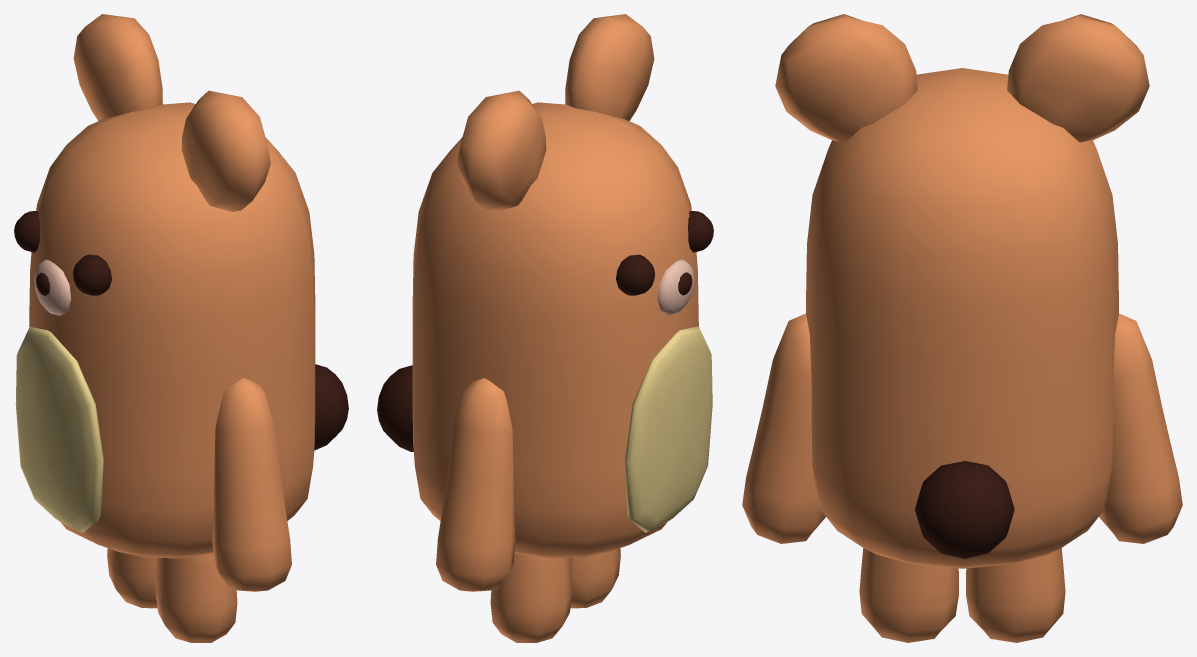
Rendered from Charecter_2.fbx.
The picture shows the model from 3 angles, left to right: view 1: azimuth 30°, elevation 25°; view 2: azimuth 150°, elevation 25°; view 3: azimuth 270°, elevation 25°; orthographic projection. The views are drawn at different scales.
Visible parts, largest first — view 1: char_2; view 2: char_2; view 3: char_2.
Part boxes in pixels (bbox=[...]): char_2: bbox=[14, 14, 348, 642]; char_2: bbox=[377, 14, 713, 642]; char_2: bbox=[742, 14, 1182, 642].
Size of the model in its own units: 162 by 286 by 184.
